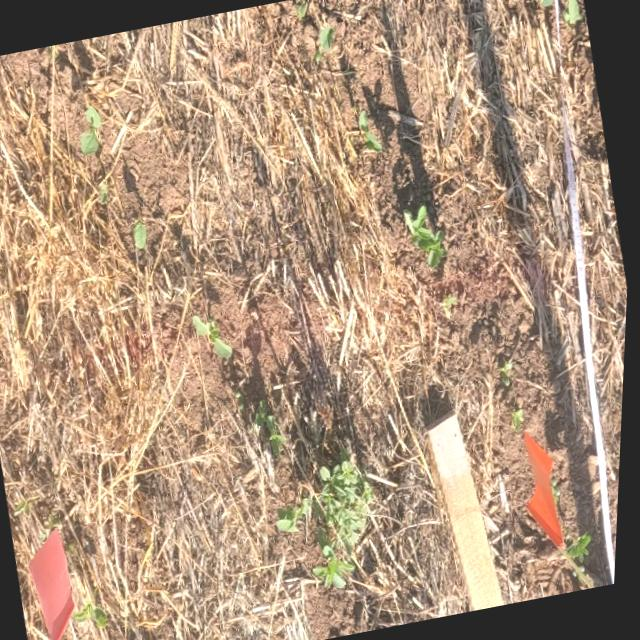caruru_weed: (281, 460, 378, 588)
soy_plant: (407, 205, 450, 266), (259, 400, 290, 455), (196, 317, 236, 359), (81, 106, 103, 154), (78, 600, 114, 627), (572, 532, 597, 564), (316, 26, 334, 62), (563, 0, 583, 25), (138, 223, 150, 248), (515, 409, 528, 430), (361, 111, 370, 130)
